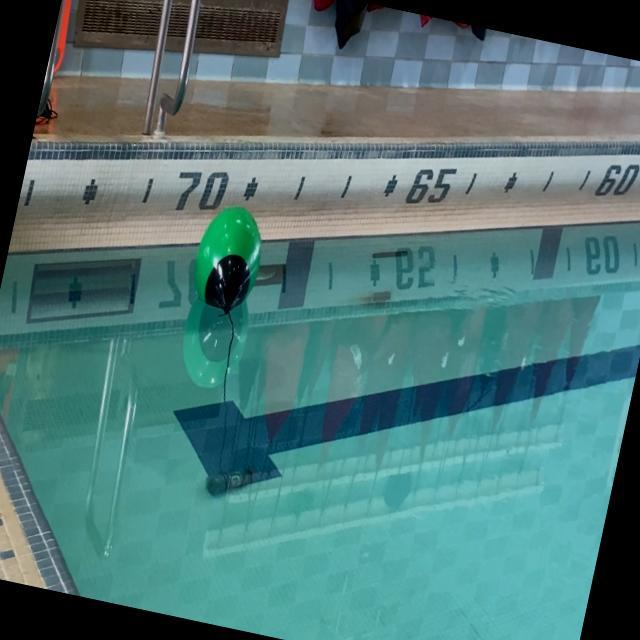buoy: (185, 196, 272, 318)
